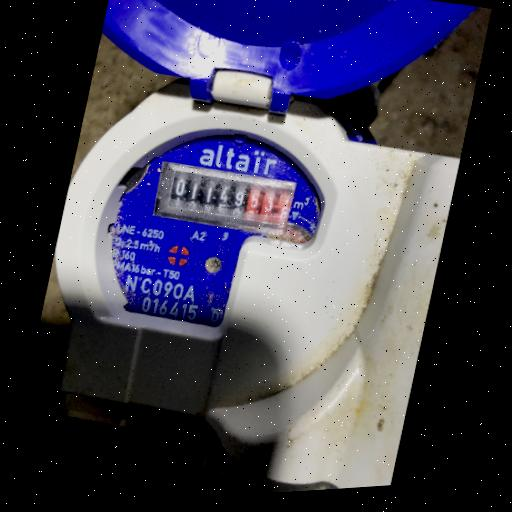0: (169, 176, 191, 210)
1: (183, 179, 206, 213), (198, 181, 221, 215)
3: (259, 190, 281, 225)
4: (213, 184, 236, 218)
5: (243, 188, 266, 223)
8: (273, 194, 292, 227)
9: (229, 185, 252, 220)
border_water_meter_number: (147, 152, 298, 248)
